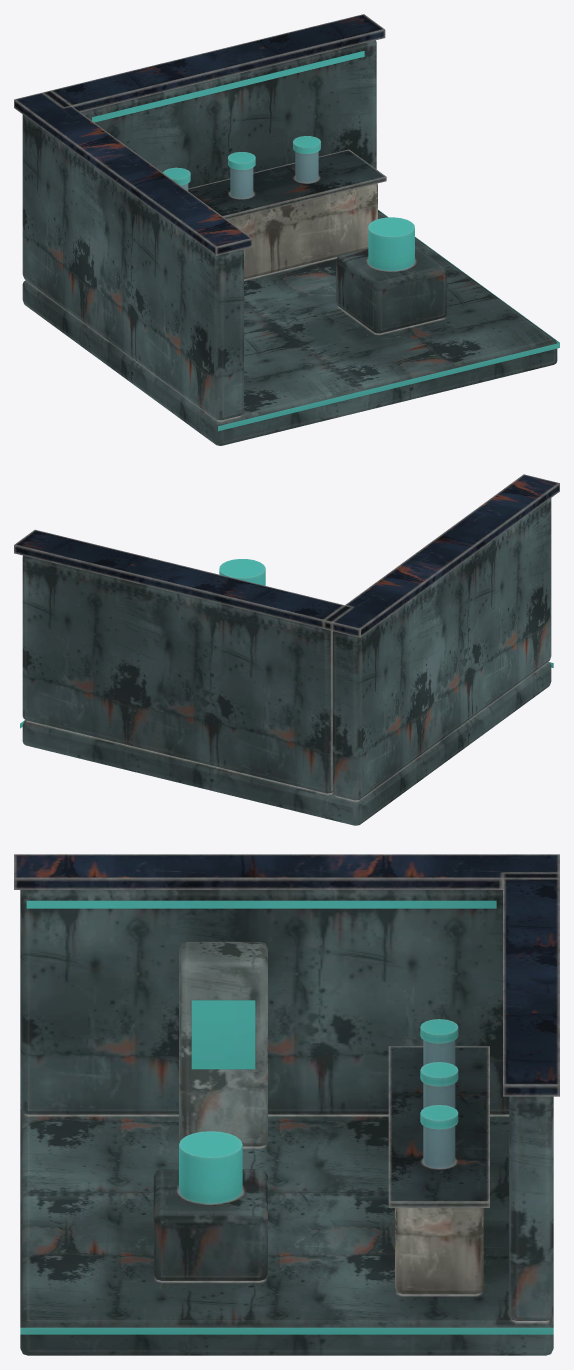
Rendered from electronics_lab.glb.
3 renders of one model, top to bottom at view 1: azimuth 30°, elevation 25°; view 2: azimuth 150°, elevation 25°; view 3: azimuth 270°, elevation 25°, orthographic. The views are drawn at different scales.
Parts seen in each view (by area): view 1: te_electronics_lab; view 2: te_electronics_lab; view 3: te_electronics_lab.
Part boxes in pixels (x1,y1,x2,y2): te_electronics_lab: (14,14,559,445); te_electronics_lab: (14,474,559,825); te_electronics_lab: (14,854,559,1355).
Bounding box in the file's own units: 0.86 × 0.48 × 0.86.
1 material, 1 textured.
